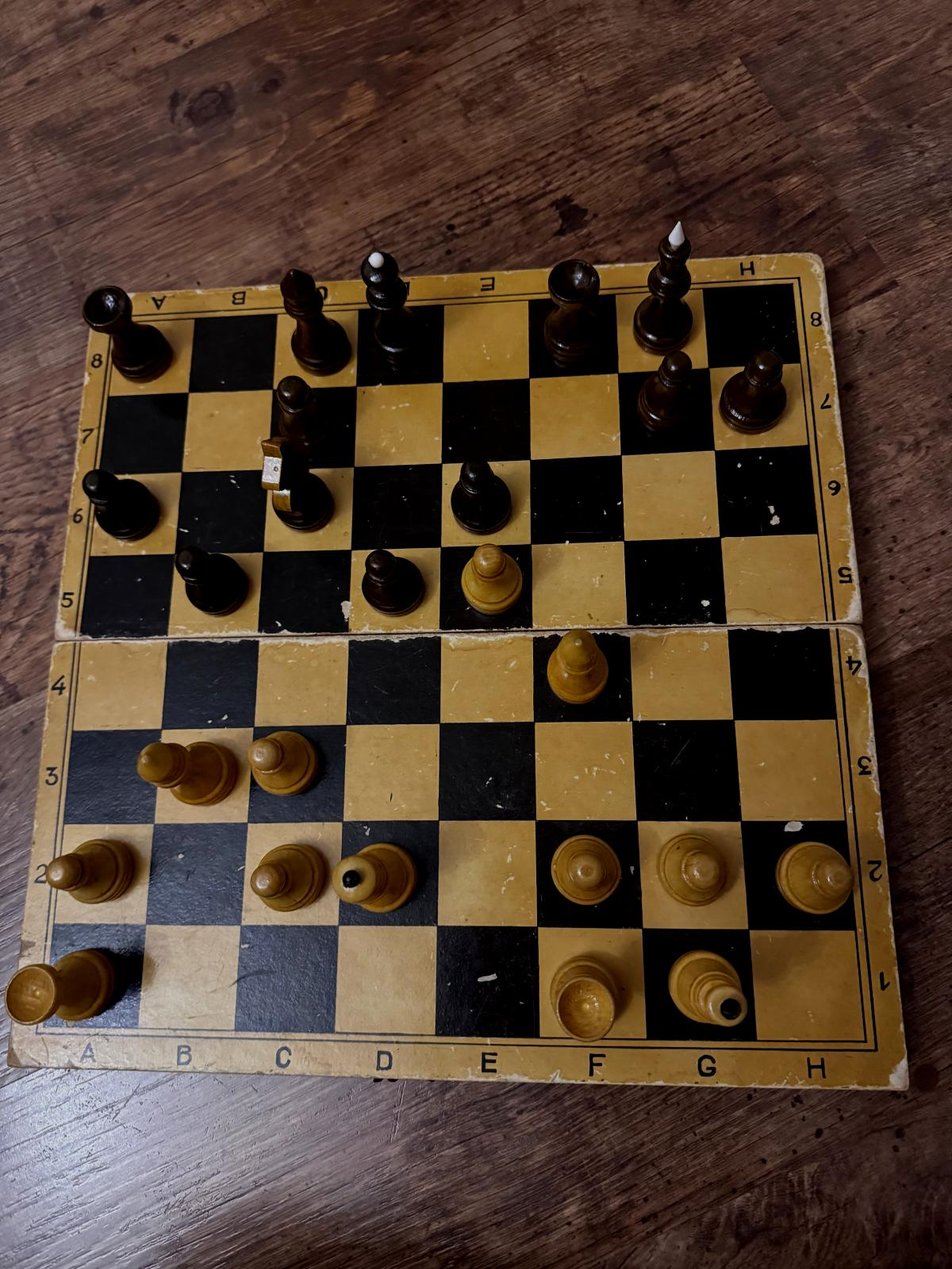Chess-Board: (44, 284, 867, 1042)
